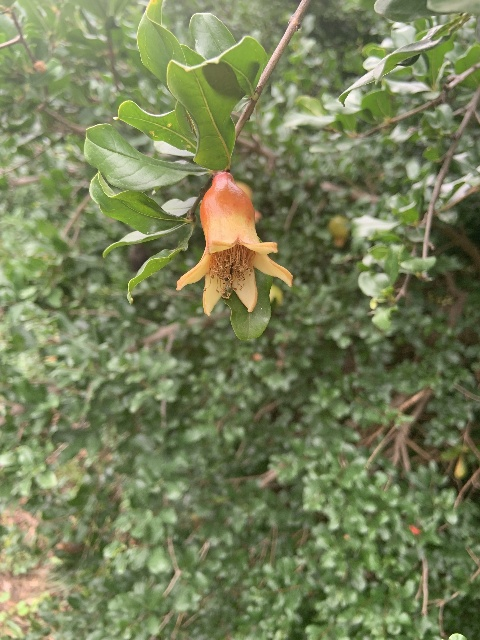early-fruit: (174, 172, 293, 316)
mid-growth: (327, 216, 350, 246)
